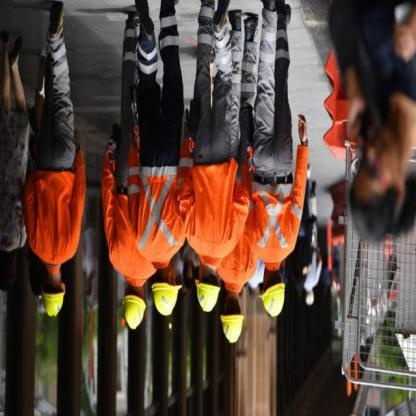vest: (177, 149, 247, 266), (126, 162, 185, 269), (246, 177, 308, 273)
yellow: (151, 278, 185, 320), (256, 281, 287, 322), (121, 291, 149, 336), (218, 309, 248, 347), (193, 278, 222, 315), (40, 282, 68, 320)
